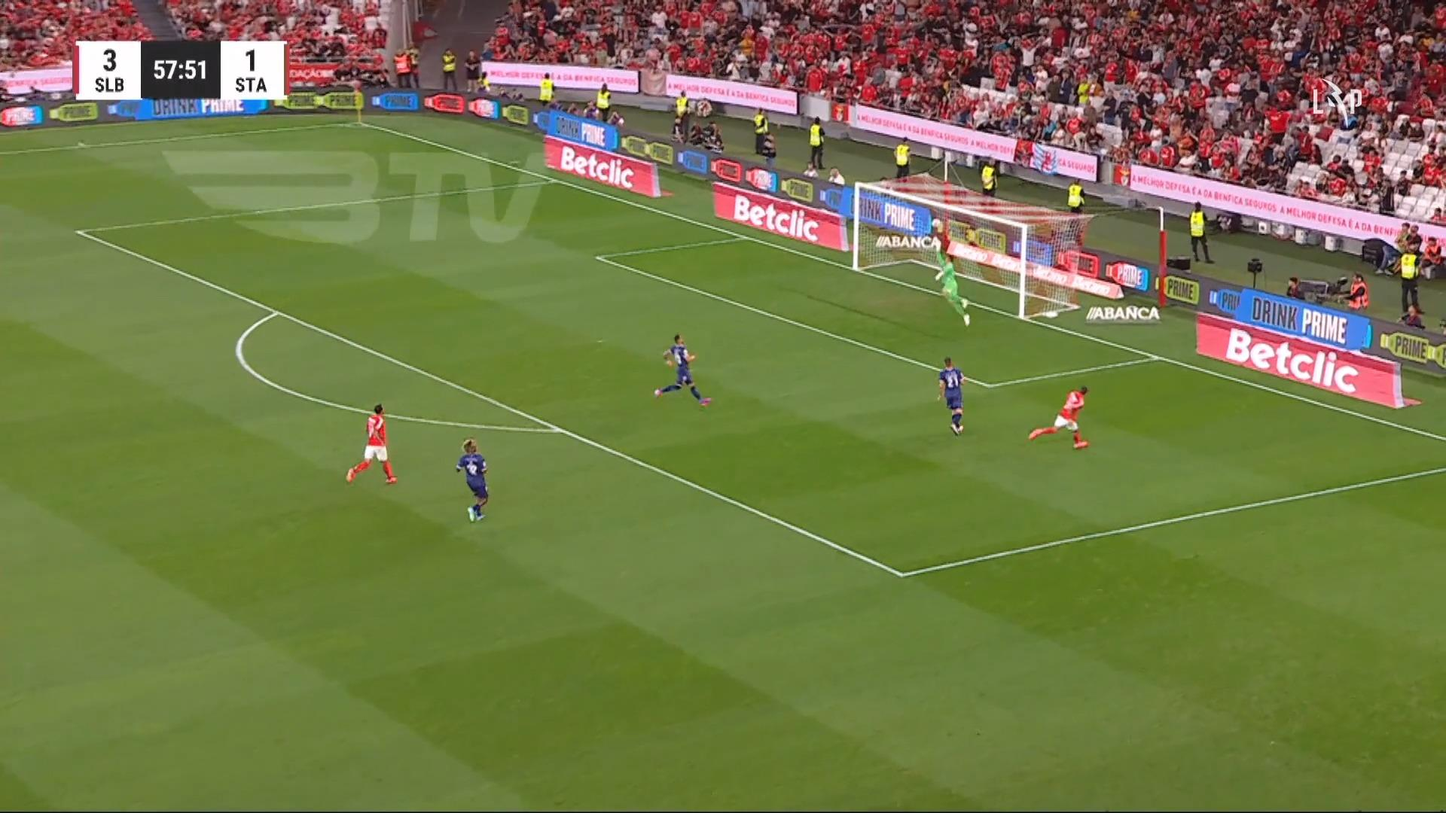ball: (700, 397, 712, 406), (653, 388, 661, 397)
goalkeeper: (933, 252, 971, 326)
player: (344, 403, 398, 485), (653, 333, 712, 407), (1027, 385, 1090, 449), (454, 437, 490, 522), (936, 356, 966, 436)
